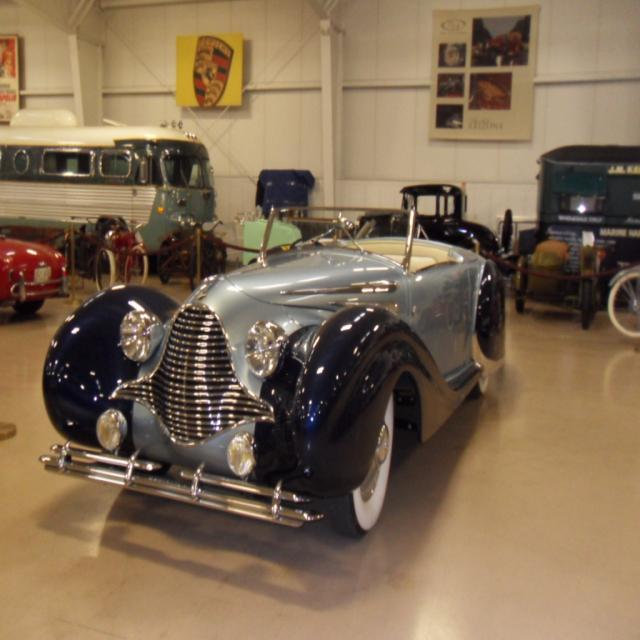car: (62, 189, 513, 554)
